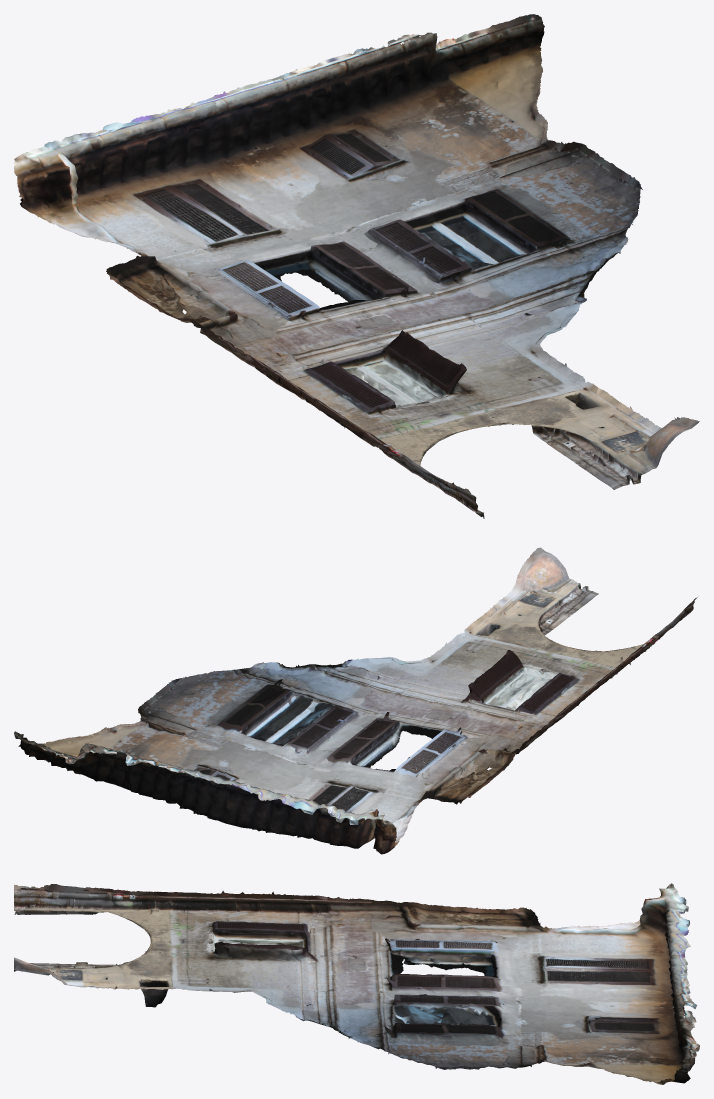
3 views of the same model, one above another, from view 1: azimuth 30°, elevation 25°; view 2: azimuth 150°, elevation 25°; view 3: azimuth 270°, elevation 25° (orthographic). The views are drawn at different scales.
Parts seen in each view (by area): view 1: Object_1; view 2: Object_1; view 3: Object_1.
Boxes of the visible parts, box(x1,y1,x2,y2) form: Object_1: box(14, 14, 699, 518); Object_1: box(14, 547, 697, 854); Object_1: box(14, 883, 699, 1084).
Bounding box in the file's own units: 35.87 × 53.65 × 5.23.
1 material, 1 textured.
